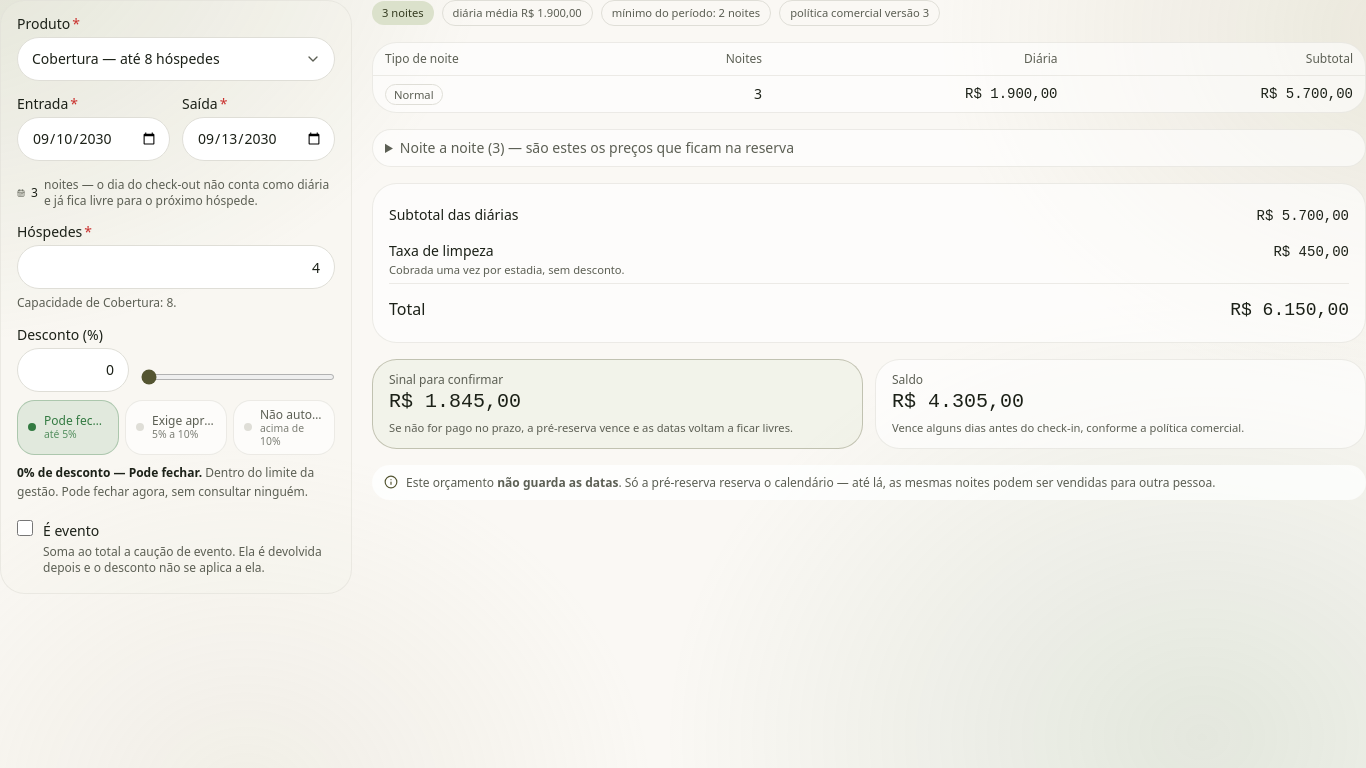
QuoteBuilder › esconde o cálculo assim que o formulário deixa de poder gerá-lo
Expected: the text "R$ 6.150,00" is shown, [1230, 296, 1349, 324]
Clear the date field labelled "Saída*": x=258, y=139 [182, 117, 335, 161]
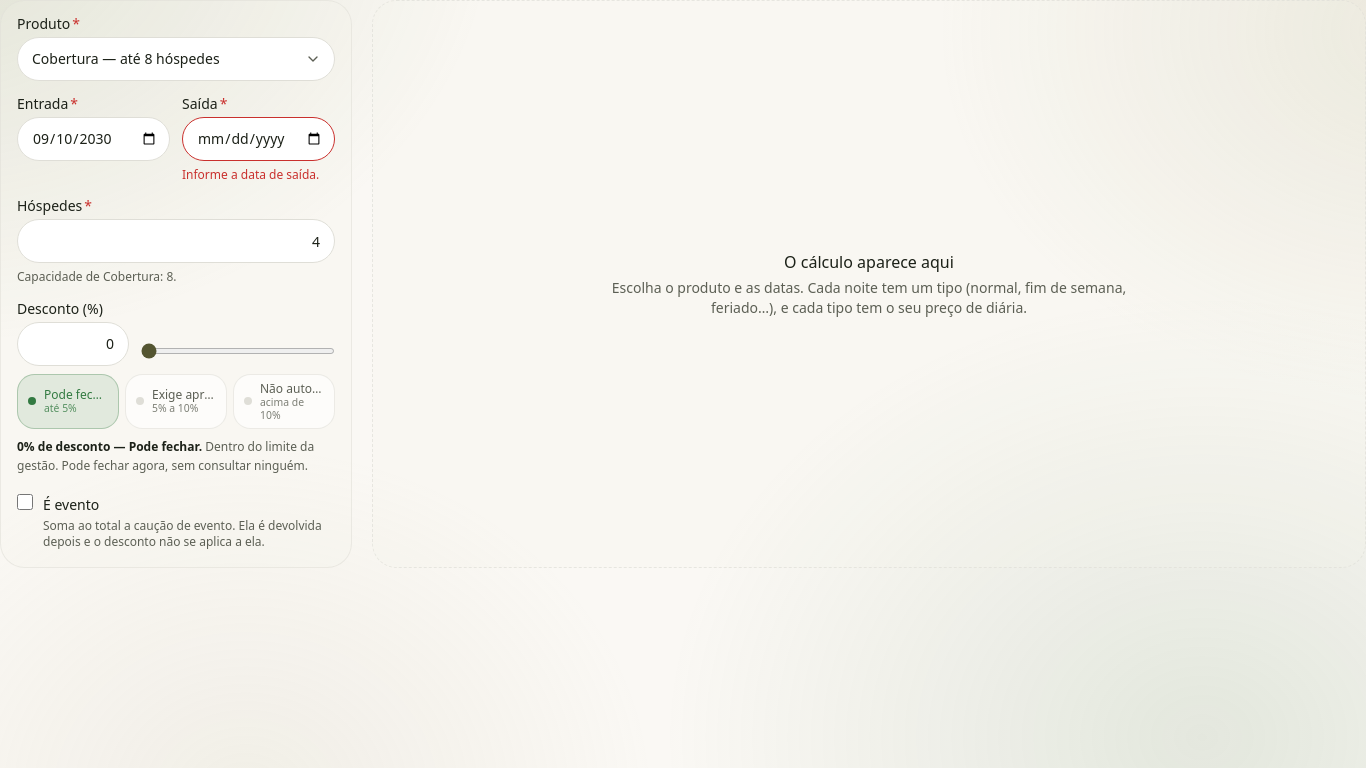
Result: the text "R$ 6.150,00" is gone
